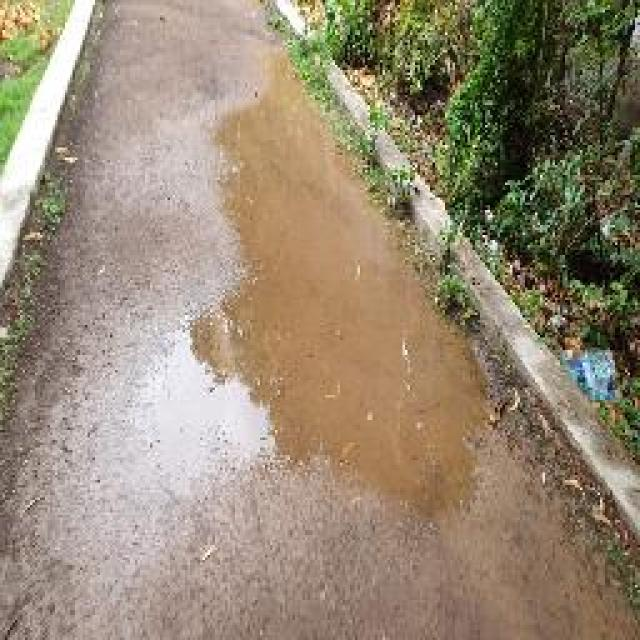puddle: (164, 123, 470, 503)
